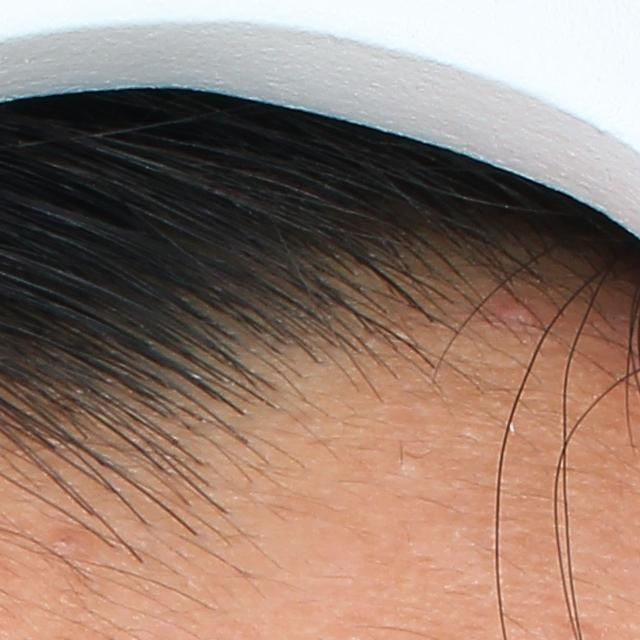papule: (499, 298, 540, 332)
